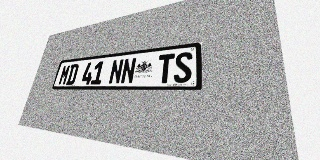1: (90, 61, 105, 85)
4: (81, 62, 95, 85)
D: (66, 64, 79, 85)
M: (58, 65, 71, 85)
N: (120, 57, 137, 84), (108, 59, 124, 84)
S: (173, 51, 193, 83)
T: (156, 53, 175, 83)
